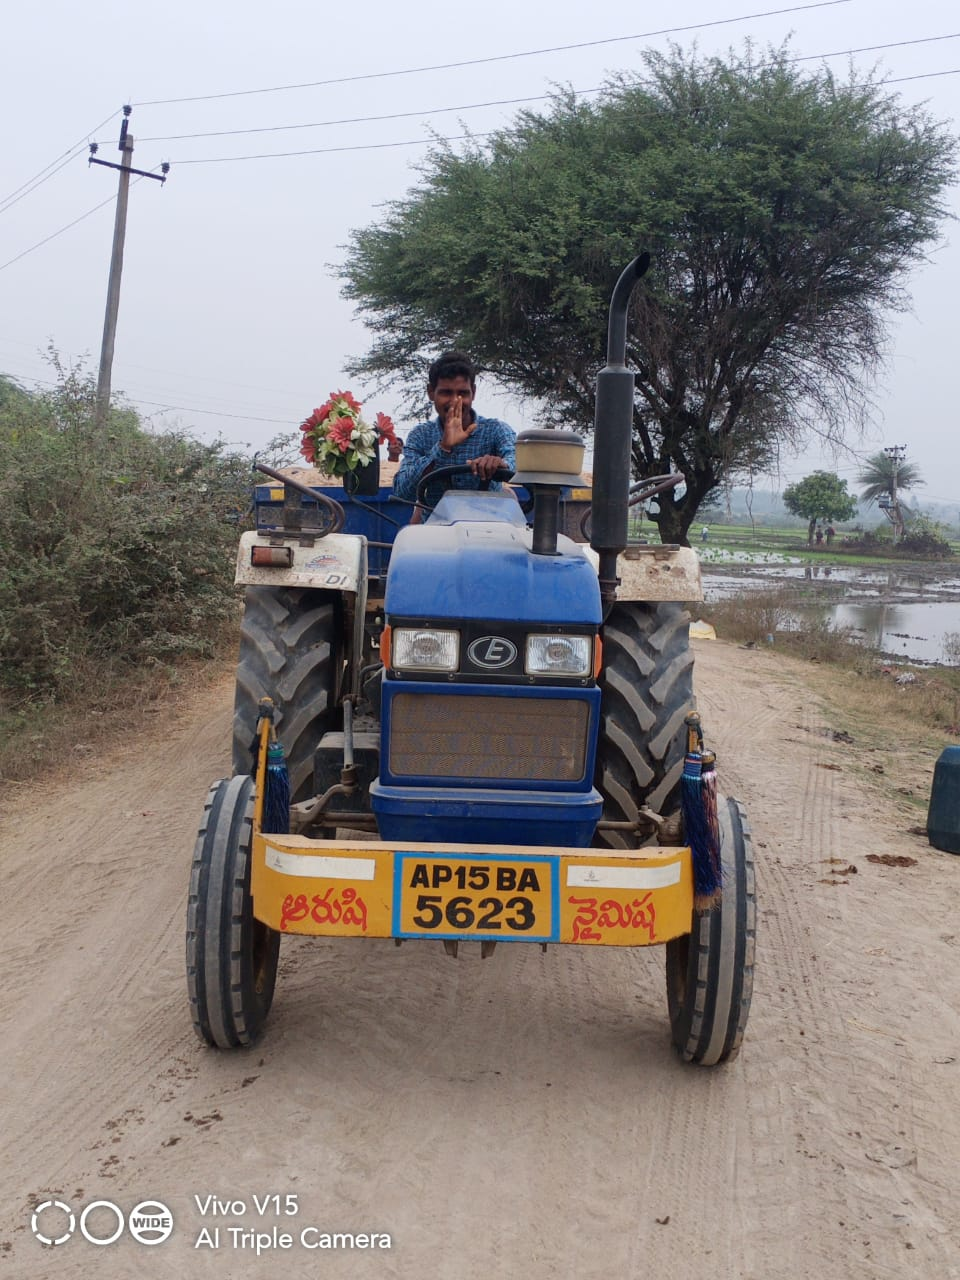num_plate: (386, 850, 566, 944)
